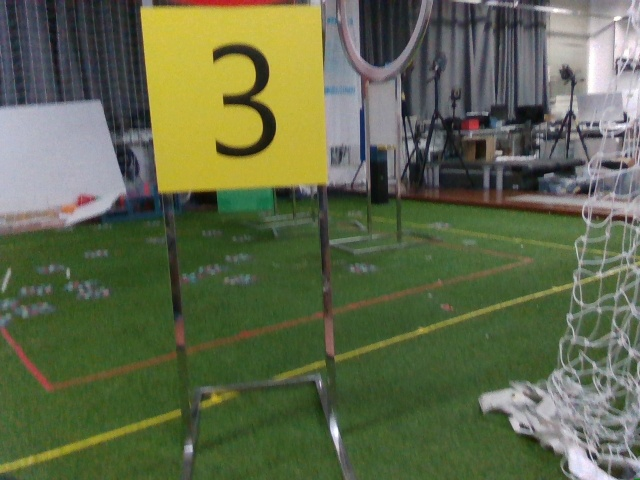target: (151, 8, 316, 189)
